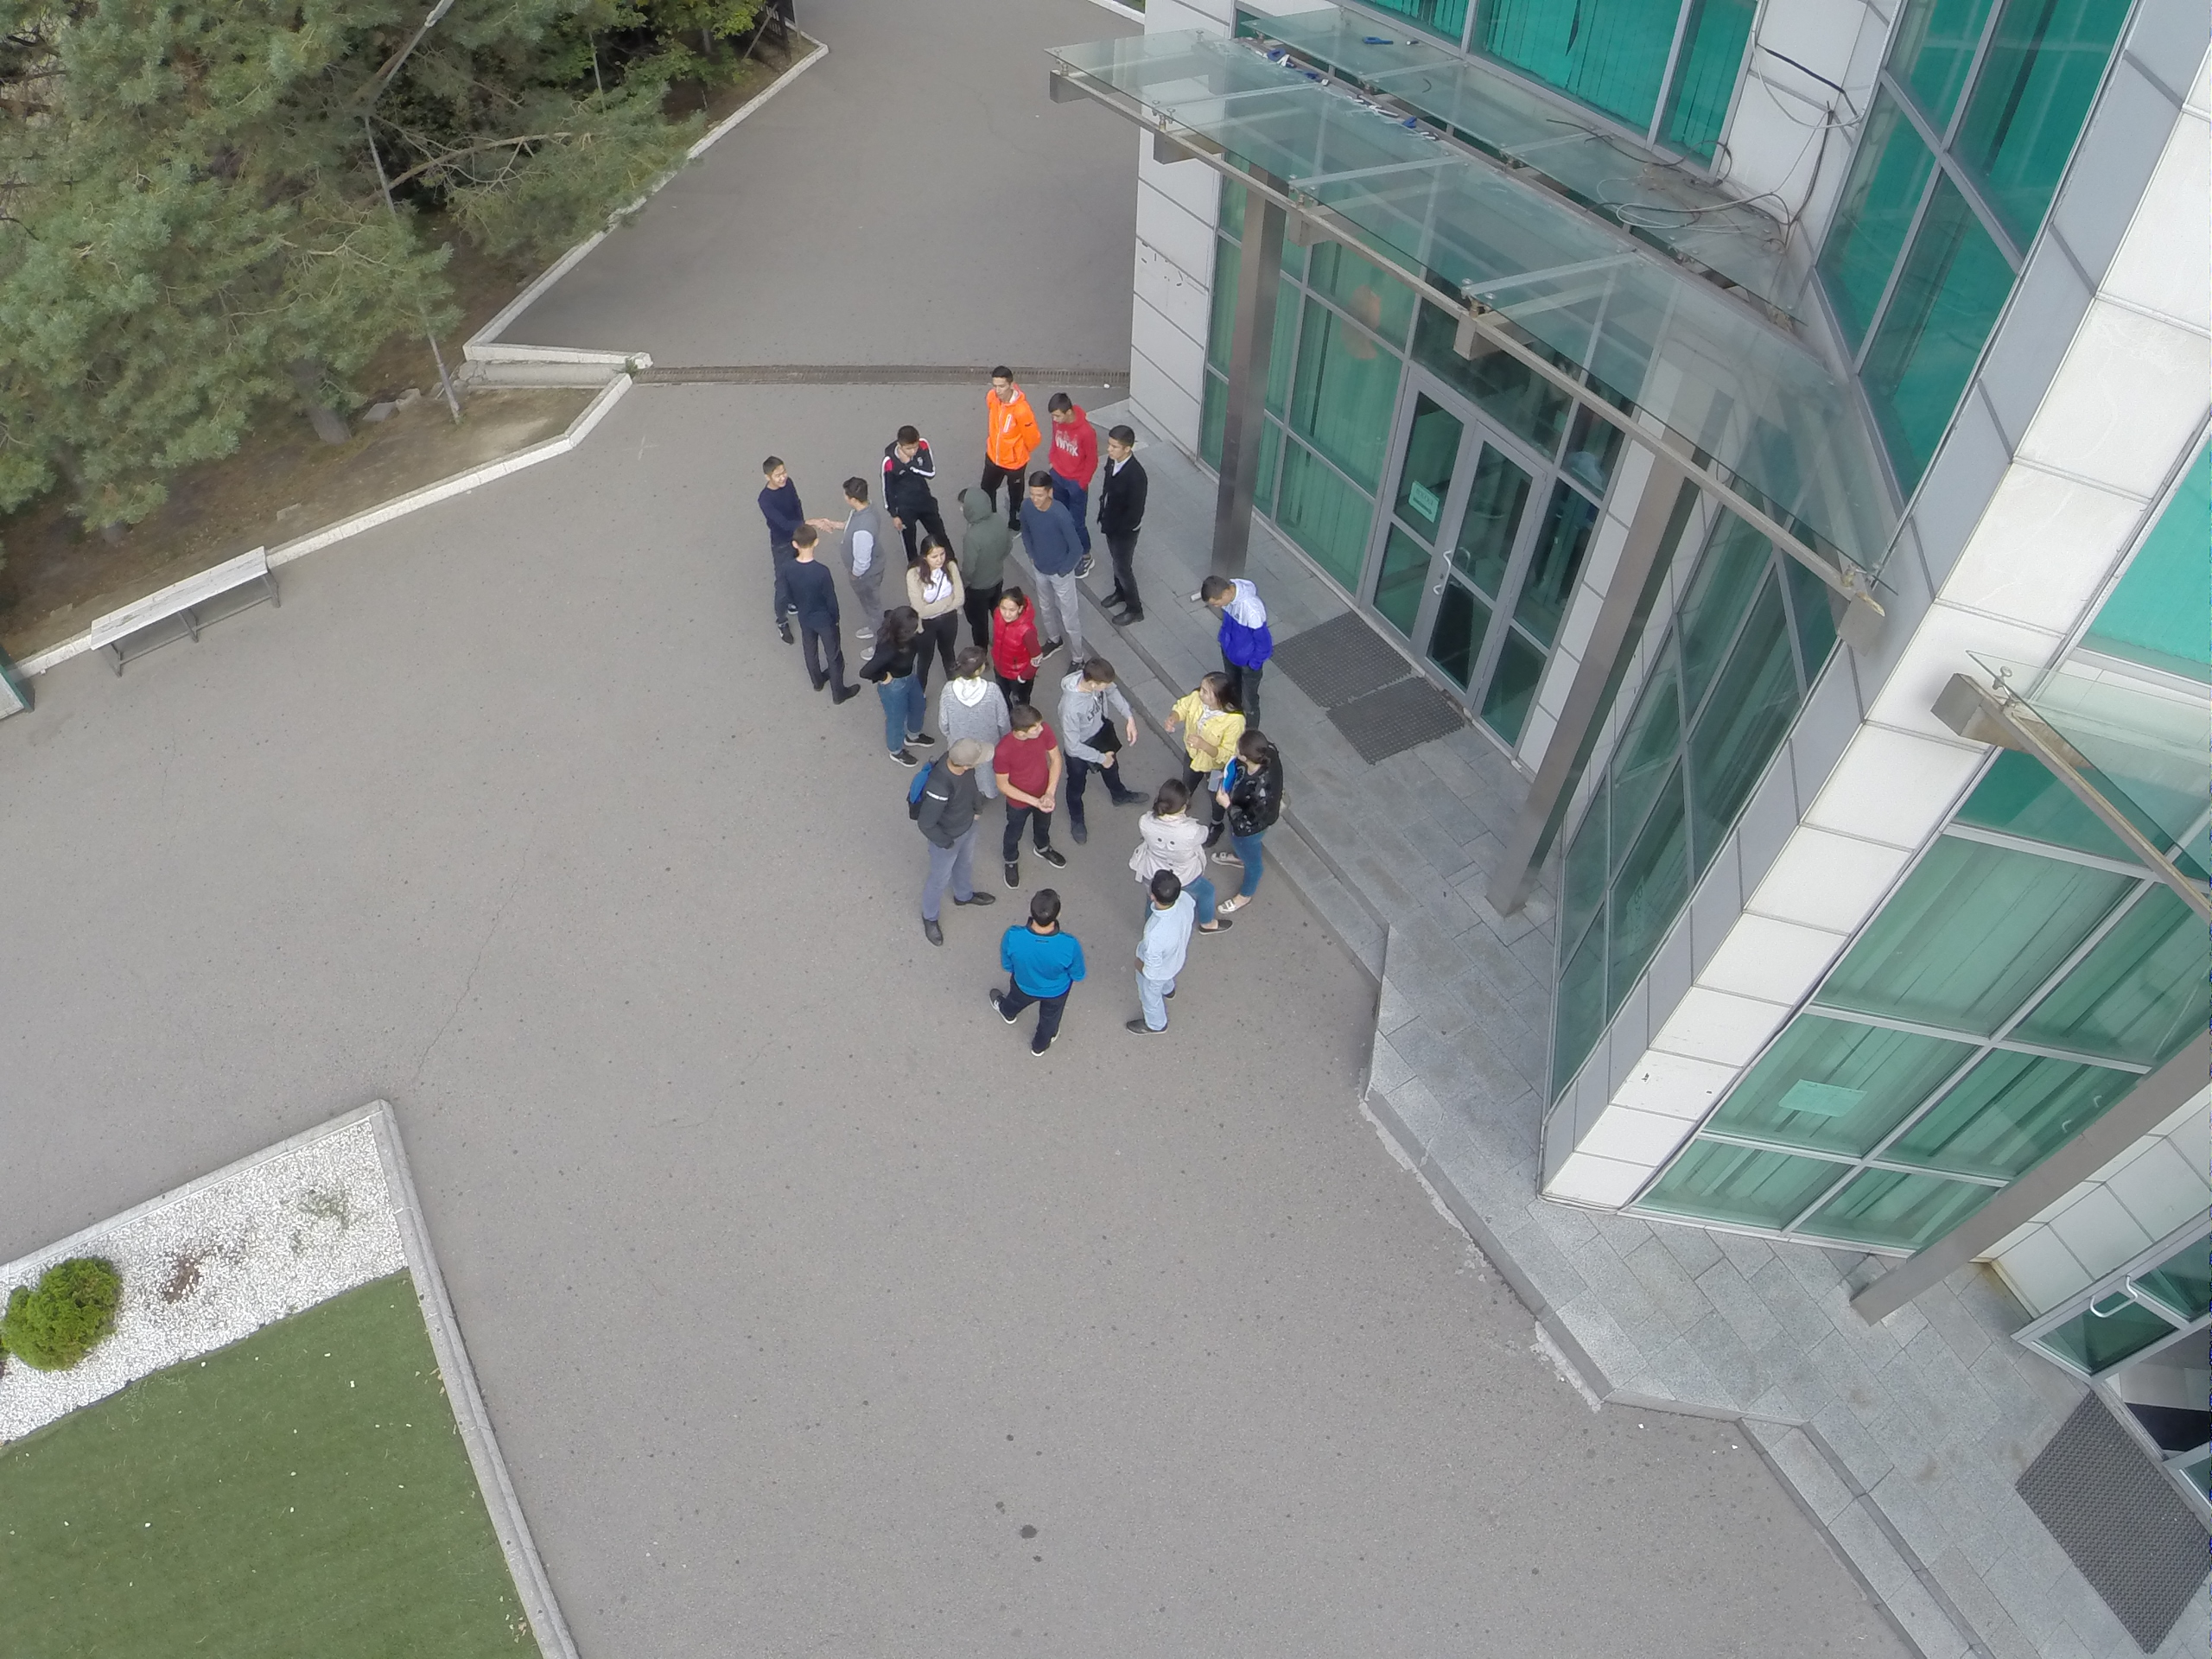person: (899, 732, 998, 944), (1037, 650, 1149, 827), (983, 889, 1080, 1058), (1014, 470, 1091, 673), (986, 707, 1070, 887), (780, 529, 860, 704), (1214, 729, 1284, 921), (1091, 423, 1156, 632), (749, 448, 816, 638), (867, 602, 933, 770), (1119, 873, 1184, 1039), (1199, 570, 1270, 720), (1169, 666, 1243, 779), (946, 482, 1005, 620), (833, 479, 890, 616), (903, 543, 964, 664), (887, 422, 949, 537), (977, 365, 1034, 486), (1048, 393, 1102, 508)
